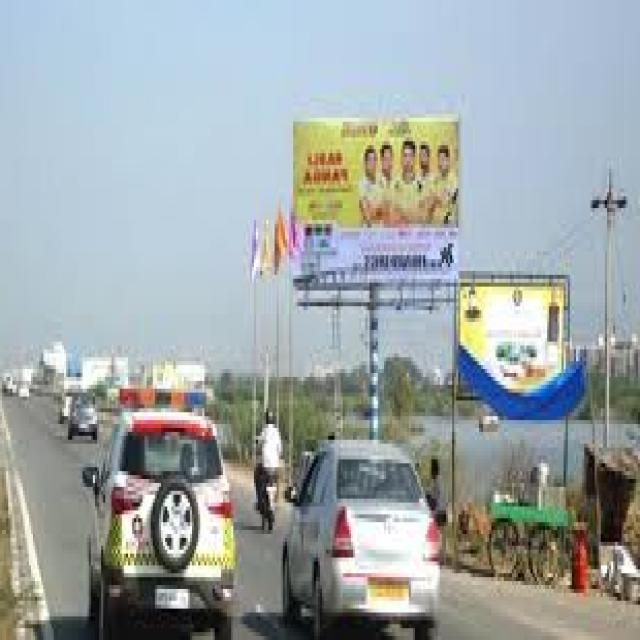Werbetafel frei: (292, 114, 458, 311), (454, 276, 568, 404)
